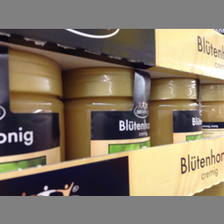honey: (1, 45, 67, 176), (66, 68, 151, 166), (152, 77, 204, 143)
